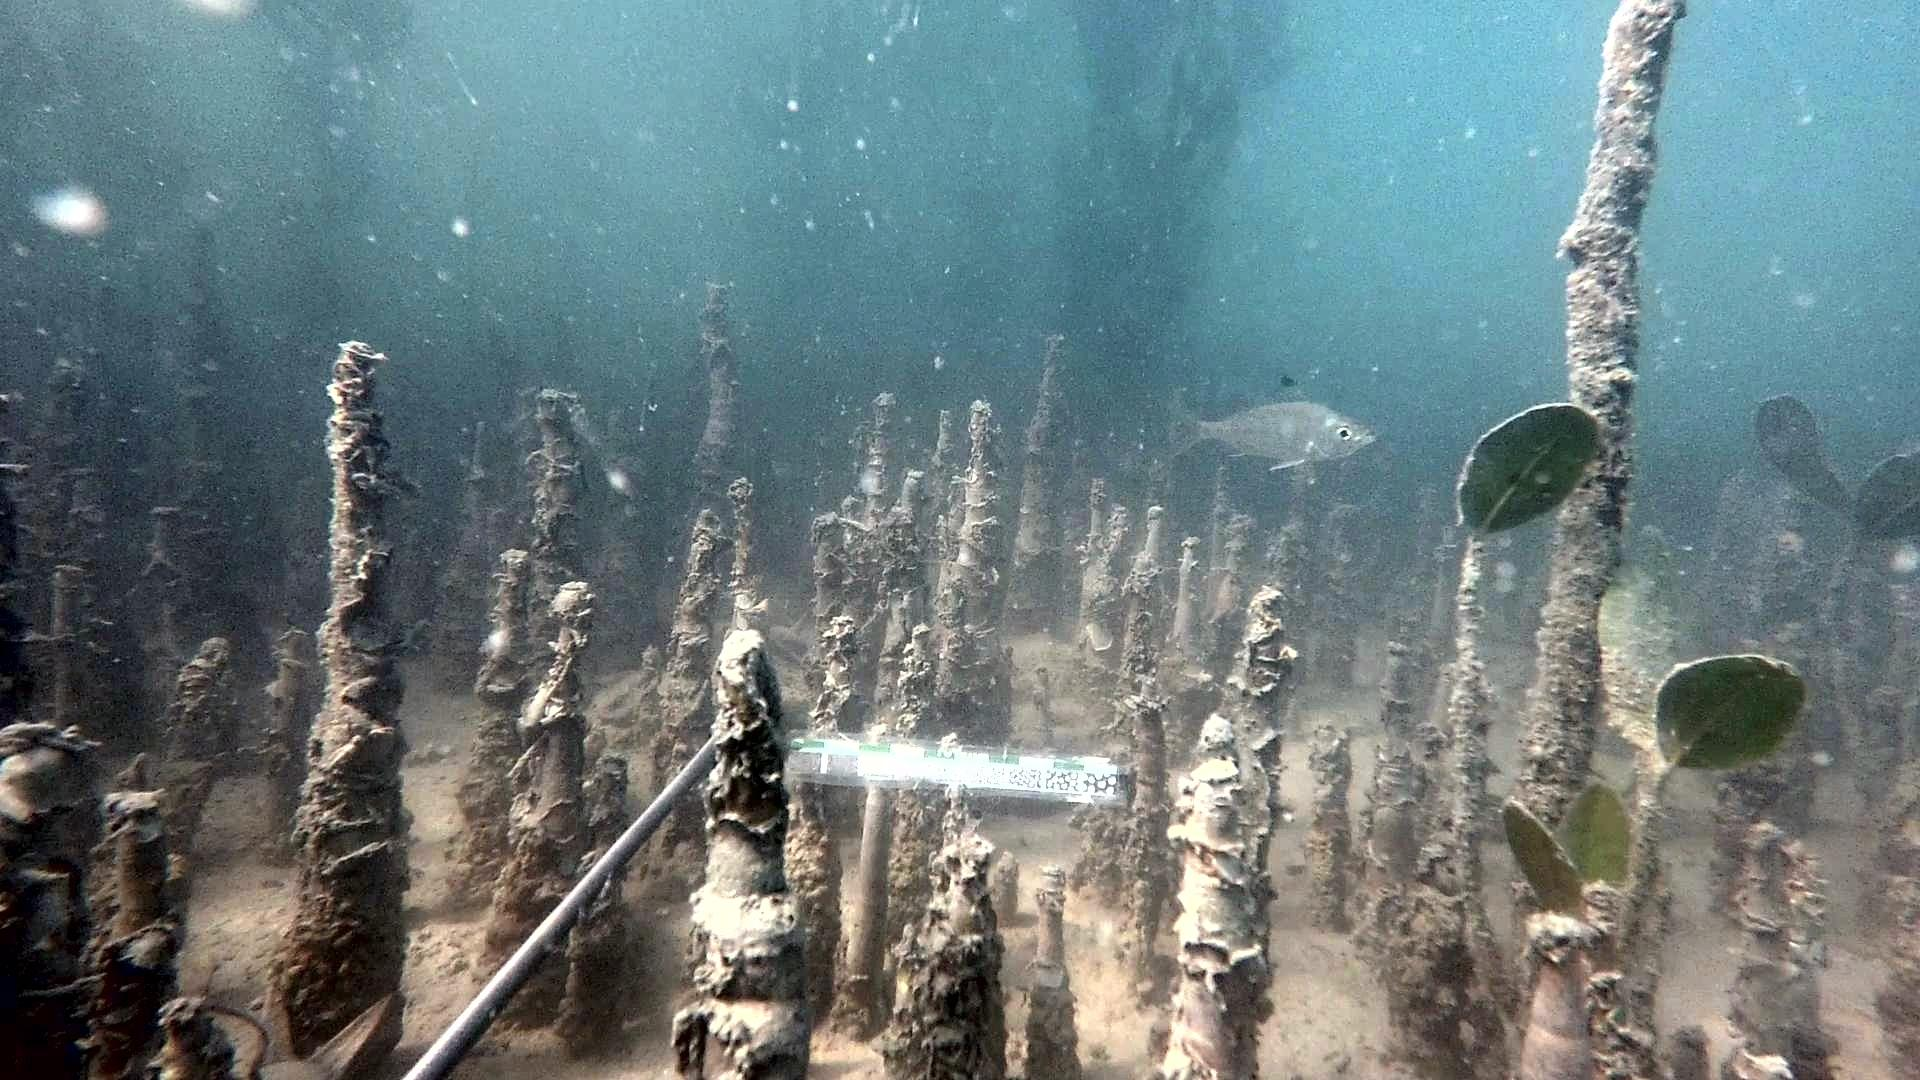gerres: (1157, 372, 1382, 475)
